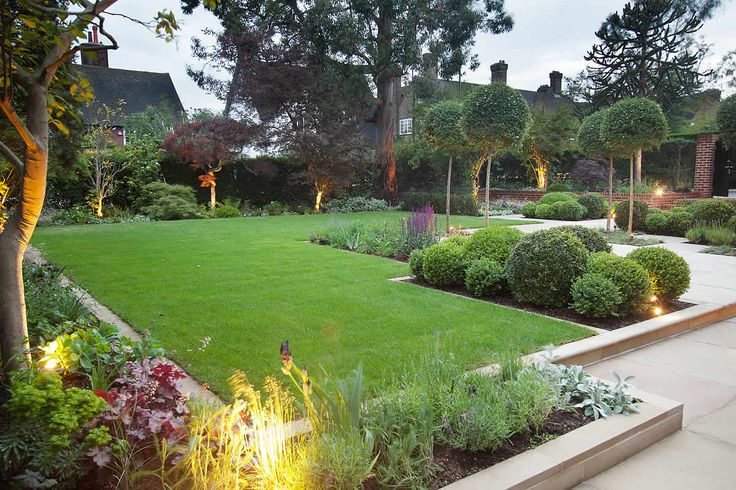bush: (410, 229, 695, 315)
tree: (151, 107, 261, 218), (461, 79, 534, 238), (601, 96, 673, 233), (281, 111, 374, 215), (414, 102, 484, 235), (575, 104, 636, 236)
